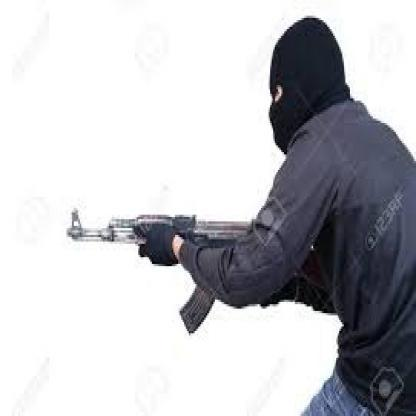Gun: (60, 204, 252, 334)
